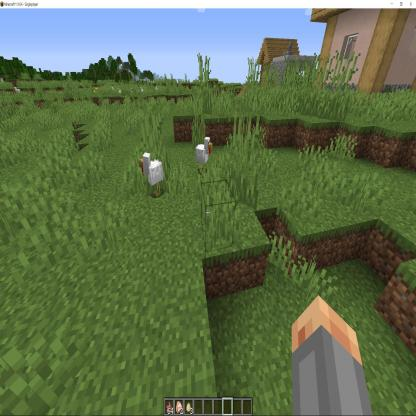minecraft-pigs: (139, 150, 166, 199), (196, 134, 212, 173), (116, 87, 124, 95), (128, 86, 134, 96), (139, 86, 143, 94), (154, 84, 158, 92)
